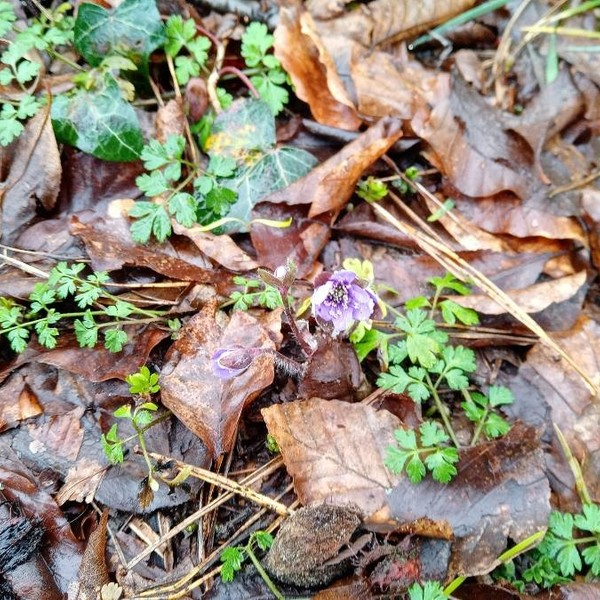obstacle: (70, 87, 548, 486)
